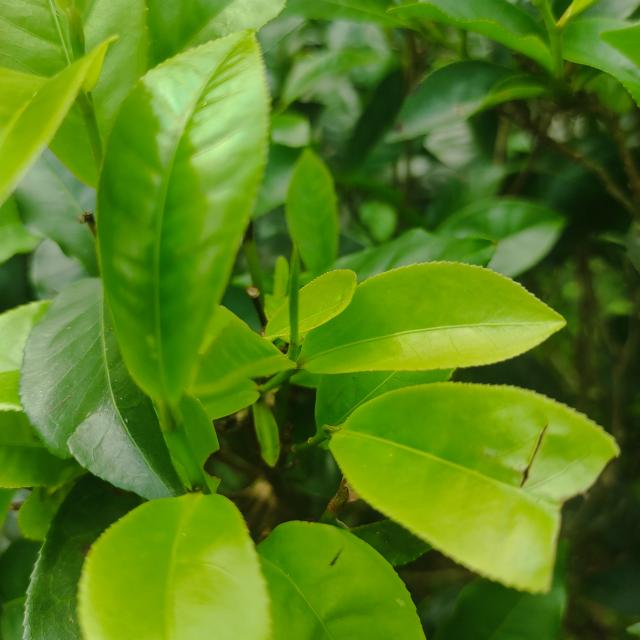unopened_leaf: (276, 234, 309, 364)
